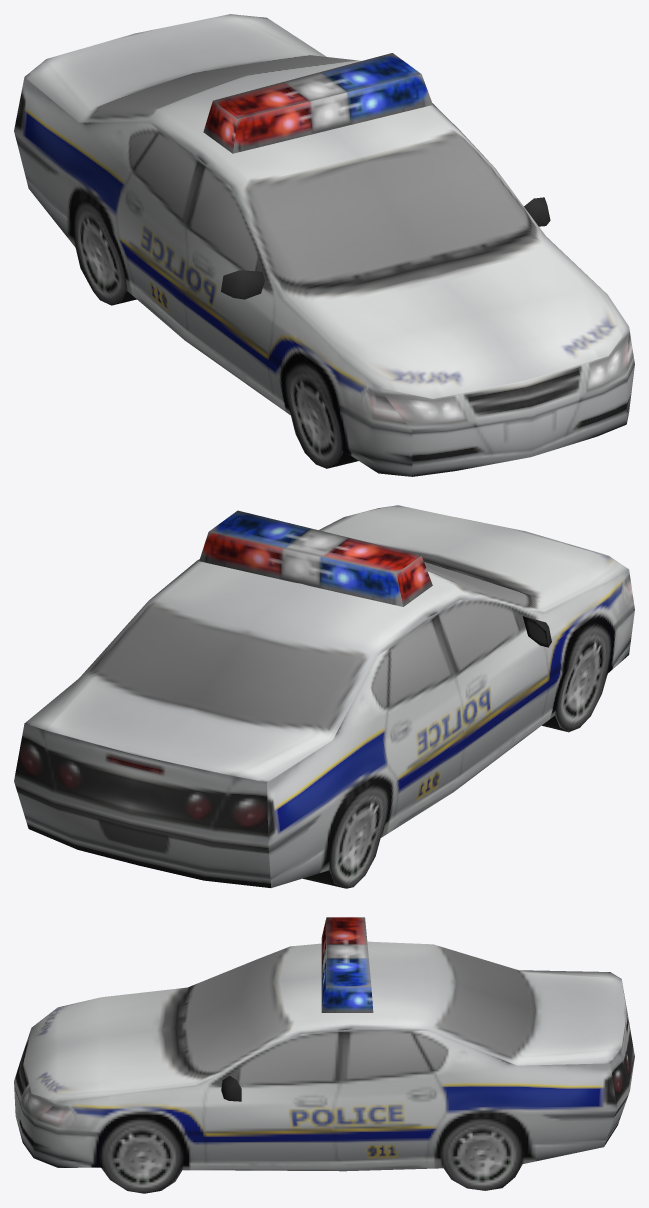
The model's file is PoliceCar.glb.
The picture shows the model from 3 angles, top to bottom: view 1: azimuth 30°, elevation 25°; view 2: azimuth 150°, elevation 25°; view 3: azimuth 270°, elevation 25°; orthographic projection. The views are drawn at different scales.
Visible parts, largest first — view 1: Mobile_Car_Police_Mesh; view 2: Mobile_Car_Police_Mesh; view 3: Mobile_Car_Police_Mesh.
Part boxes in pixels (x1,y1,x2,y2): Mobile_Car_Police_Mesh: (14,14,634,476); Mobile_Car_Police_Mesh: (14,505,634,888); Mobile_Car_Police_Mesh: (14,917,634,1193).
Bounding box in the file's own units: 2.25 × 1.64 × 4.81.
Materials: 1 (1 with a texture image).
